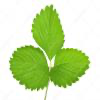Strawberry leaf: (31, 0, 67, 62), (8, 42, 48, 91), (49, 47, 91, 88)
